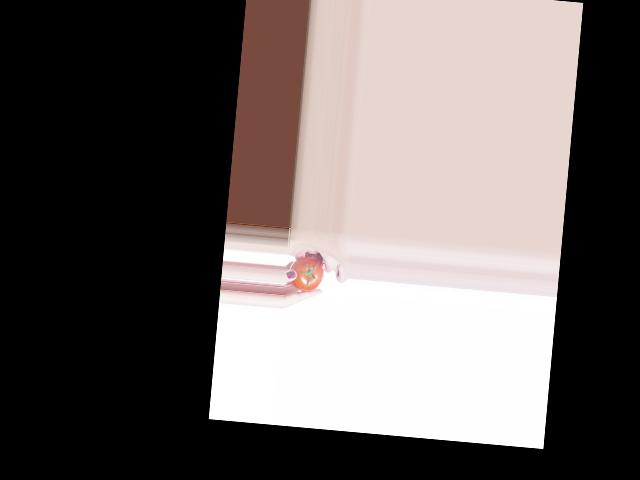tomato: (287, 255, 324, 293)
